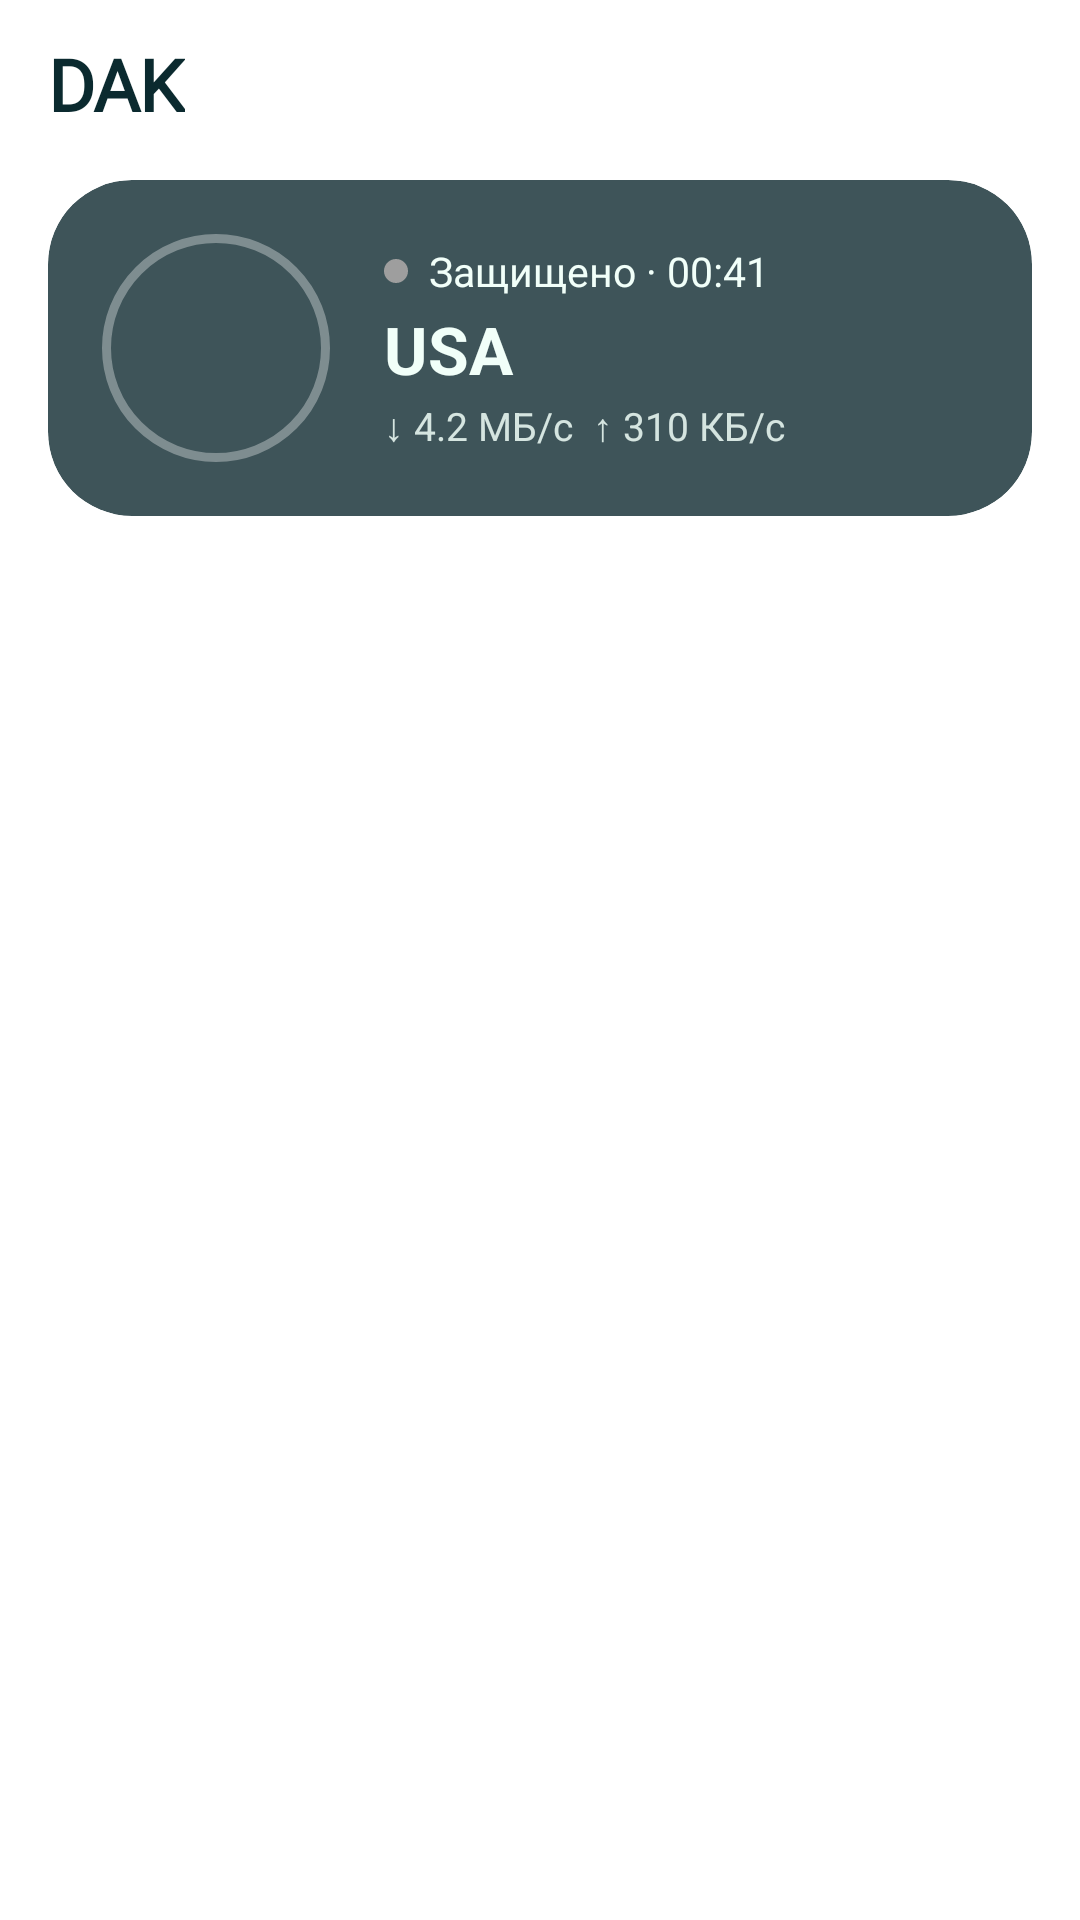

Point at icon controls on the screen. Image size 1080px×1920px, points as [x,y].
kombain dot: [396,271]
kombain knob ring: [216,348]
